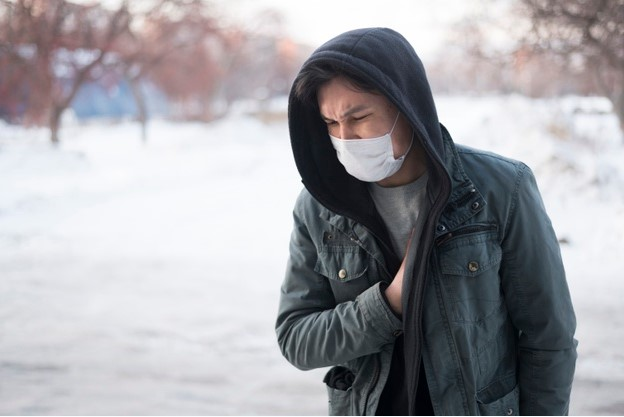face_with_mask: (286, 25, 435, 186)
